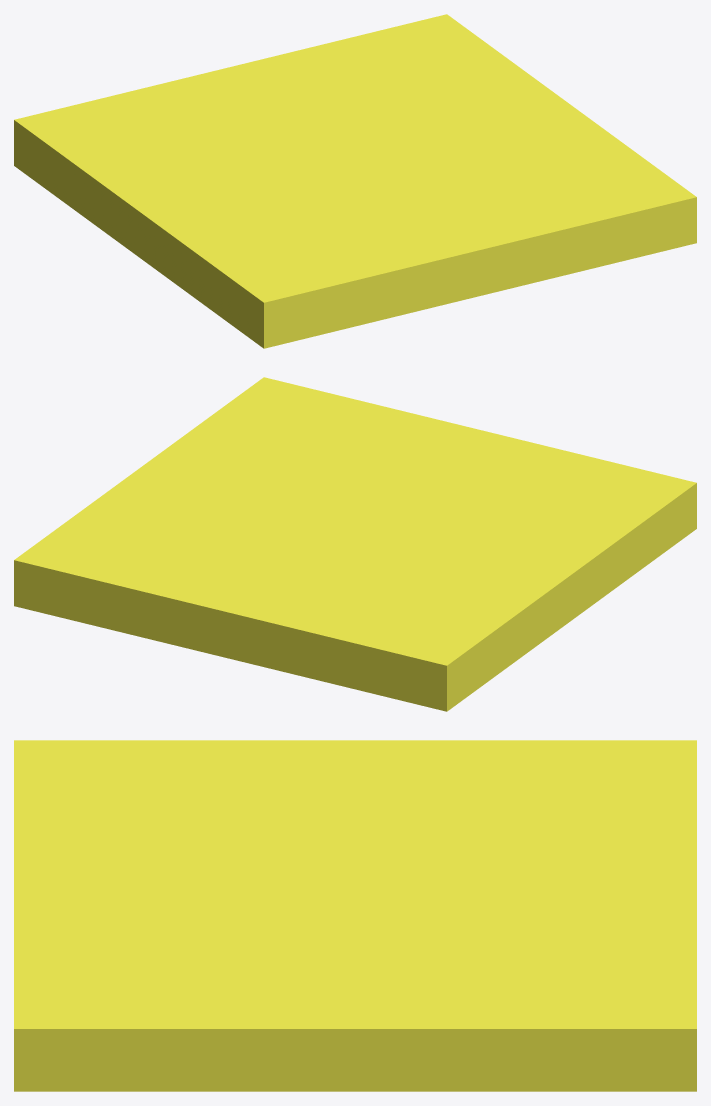
Rendered from Paper.fbx.
3 views of the same model, one above another, from view 1: azimuth 30°, elevation 25°; view 2: azimuth 150°, elevation 25°; view 3: azimuth 270°, elevation 25° (orthographic). The views are drawn at different scales.
Parts seen in each view (by area): view 1: PaperOutline; view 2: PaperOutline; view 3: PaperOutline.
Boxes of the visible parts, <box> form: PaperOutline: <box>14,14,696,348</box>; PaperOutline: <box>14,377,696,711</box>; PaperOutline: <box>14,740,696,1091</box>.
Size of the model in its own units: 212 by 21.54 by 212.
